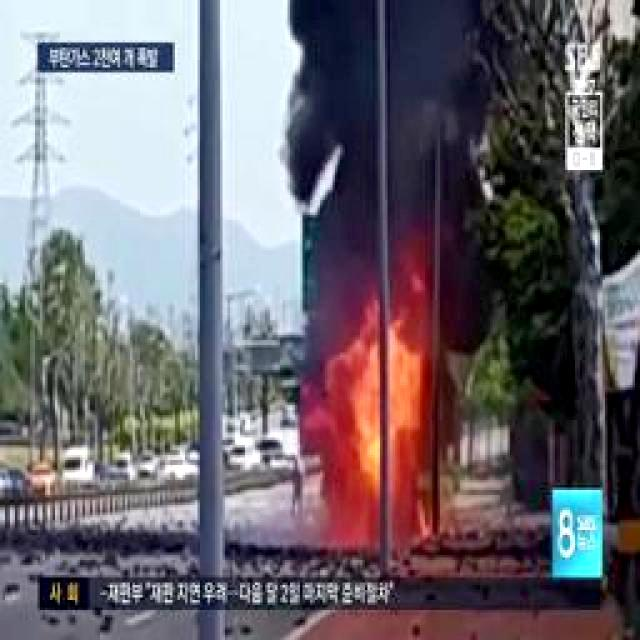fire: (327, 350, 435, 558)
